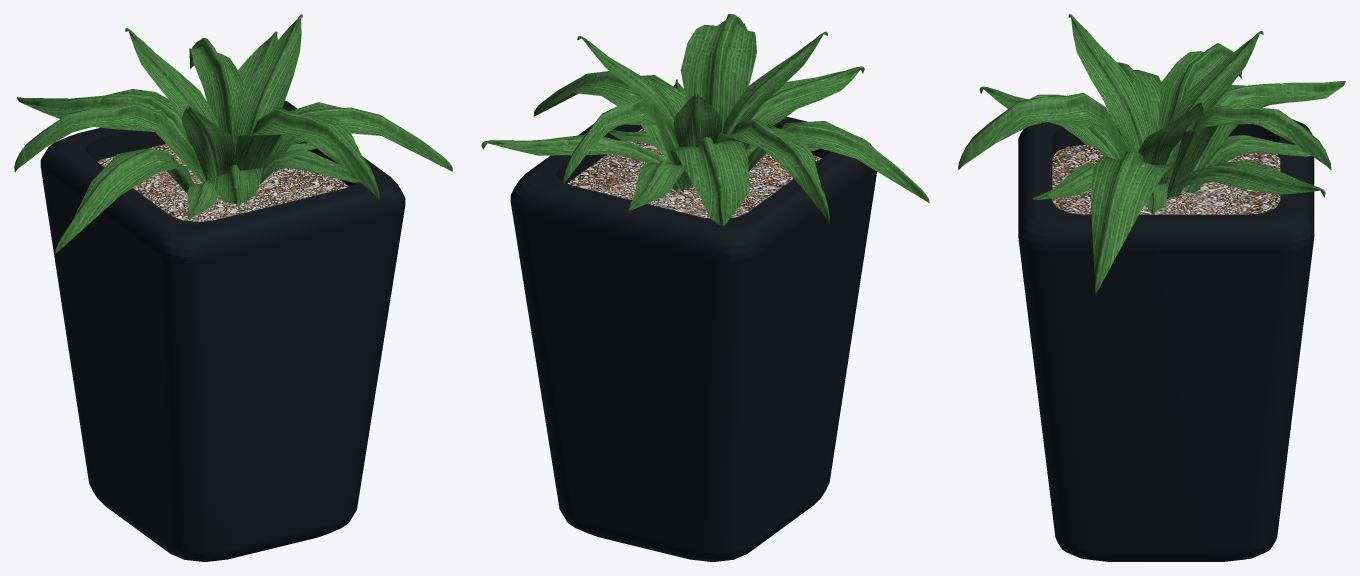
Rendered from Plant.fbx.
3 views of the same model, side by side, from view 1: azimuth 30°, elevation 25°; view 2: azimuth 150°, elevation 25°; view 3: azimuth 270°, elevation 25° (orthographic).
Visible parts, largest first — view 1: polySurface101; view 2: polySurface101; view 3: polySurface101.
Part boxes in pixels (bbox=[...]): polySurface101: bbox=[14, 14, 452, 561]; polySurface101: bbox=[481, 14, 929, 561]; polySurface101: bbox=[958, 14, 1345, 561].
Bounding box in the file's own units: 73.26 × 82.27 × 61.53.
